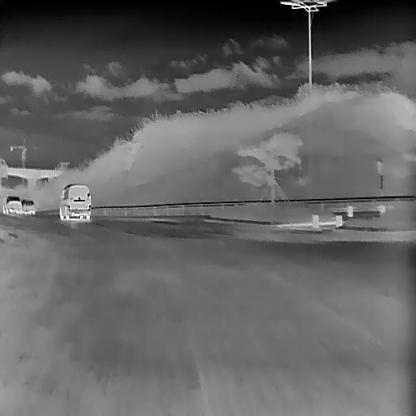car: (59, 182, 91, 220), (3, 195, 21, 215), (21, 199, 34, 215)
